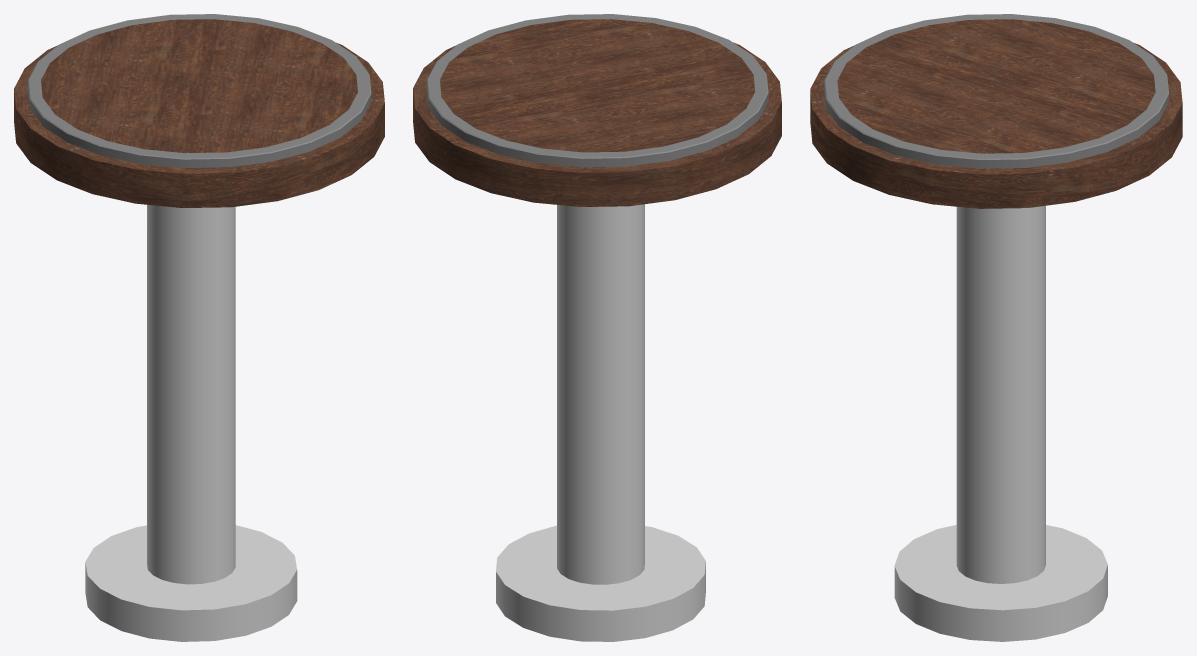
The picture shows the model from 3 angles, left to right: view 1: azimuth 30°, elevation 25°; view 2: azimuth 150°, elevation 25°; view 3: azimuth 270°, elevation 25°; orthographic projection.
Parts seen in each view (by area): view 1: Stand3, Cylinder__1_, Cylinder; view 2: Stand3, Cylinder__1_, Cylinder; view 3: Stand3, Cylinder__1_, Cylinder.
Boxes of the visible parts, x1,y1,x2,y2 form: Stand3: (14, 14, 384, 207); Cylinder__1_: (147, 204, 235, 584); Cylinder: (85, 525, 297, 641); Stand3: (413, 14, 781, 206); Cylinder__1_: (557, 204, 644, 584); Cylinder: (496, 525, 705, 641); Stand3: (810, 14, 1182, 208); Cylinder__1_: (956, 205, 1045, 583); Cylinder: (894, 525, 1107, 641).
Bounding box in the file's own units: 143 × 218 × 143.
